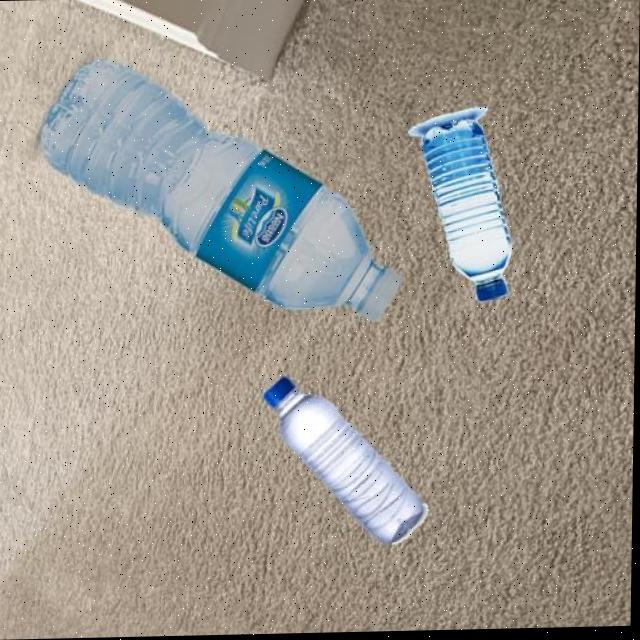bottle: (32, 52, 408, 332), (260, 373, 433, 550), (405, 107, 516, 307)
